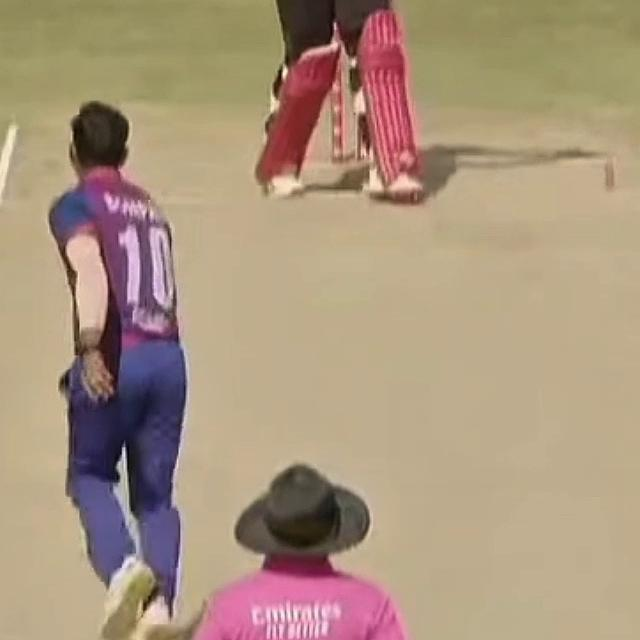umpire: (165, 455, 470, 640), (170, 455, 463, 640)
